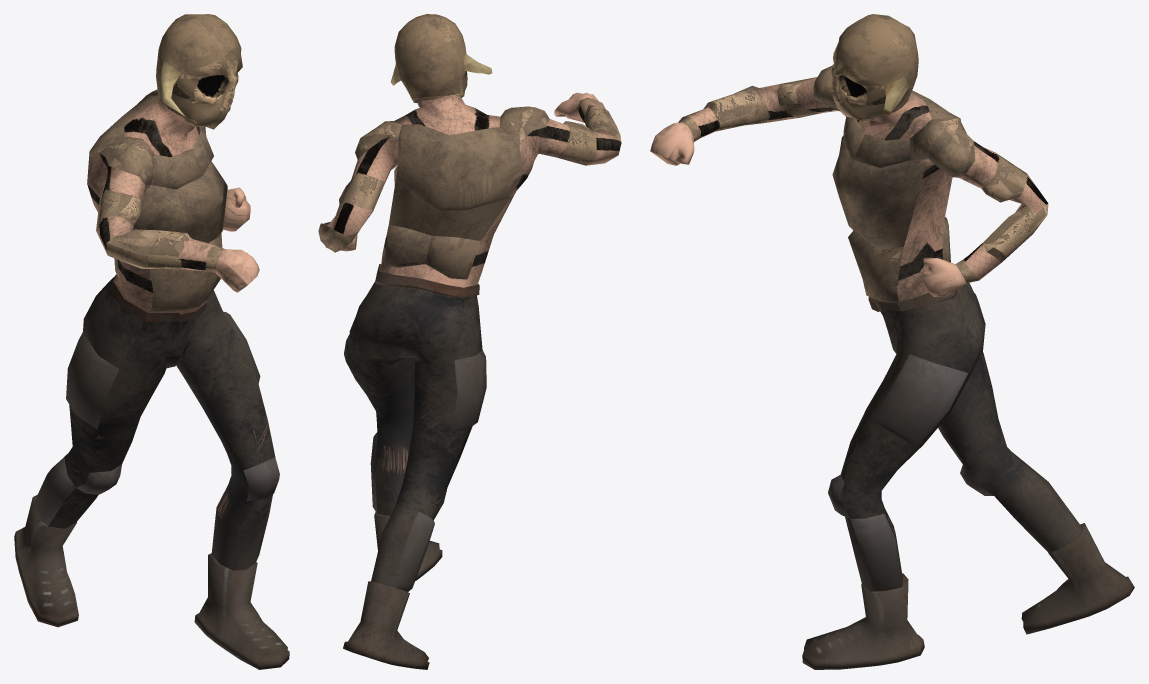
Rendered from Anim_ataque_d2_npc1.0024.obj.
The picture shows the model from 3 angles, left to right: view 1: azimuth 30°, elevation 25°; view 2: azimuth 150°, elevation 25°; view 3: azimuth 270°, elevation 25°; orthographic projection. The views are drawn at different scales.
Parts seen in each view (by area): view 1: NPC2; view 2: NPC2; view 3: NPC2.
Boxes of the visible parts, <box> form: NPC2: <box>14,14,289,669</box>; NPC2: <box>318,14,621,669</box>; NPC2: <box>650,14,1134,669</box>.
Size of the model in its own units: 3.48 by 9.28 by 6.37.
